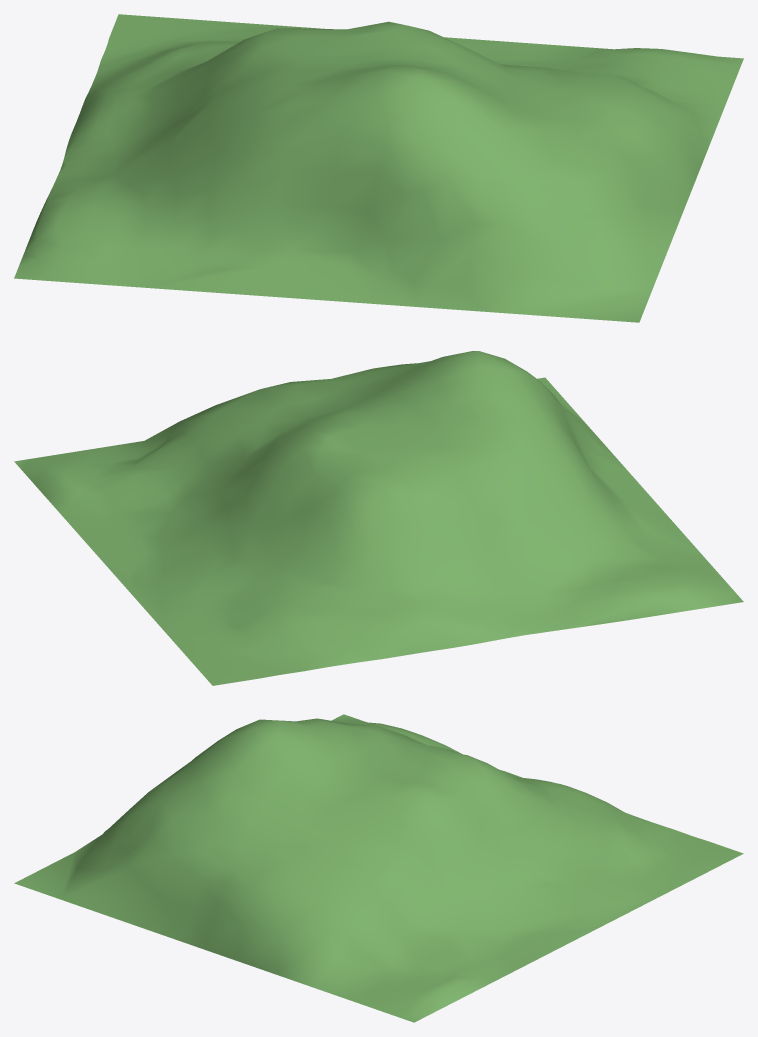
File: SM_Hills_04.obj
3 views of the same model, one above another, from view 1: azimuth 30°, elevation 25°; view 2: azimuth 150°, elevation 25°; view 3: azimuth 270°, elevation 25° (orthographic). The views are drawn at different scales.
Parts seen in each view (by area): view 1: SM_Hills_04; view 2: SM_Hills_04; view 3: SM_Hills_04.
Part boxes in pixels (x1,y1,x2,y2): SM_Hills_04: (14,14,743,322); SM_Hills_04: (14,351,743,685); SM_Hills_04: (14,714,743,1022).
Size of the model in its own units: 37.54 by 7.14 by 37.54.
Materials: 1 (1 with a texture image).
